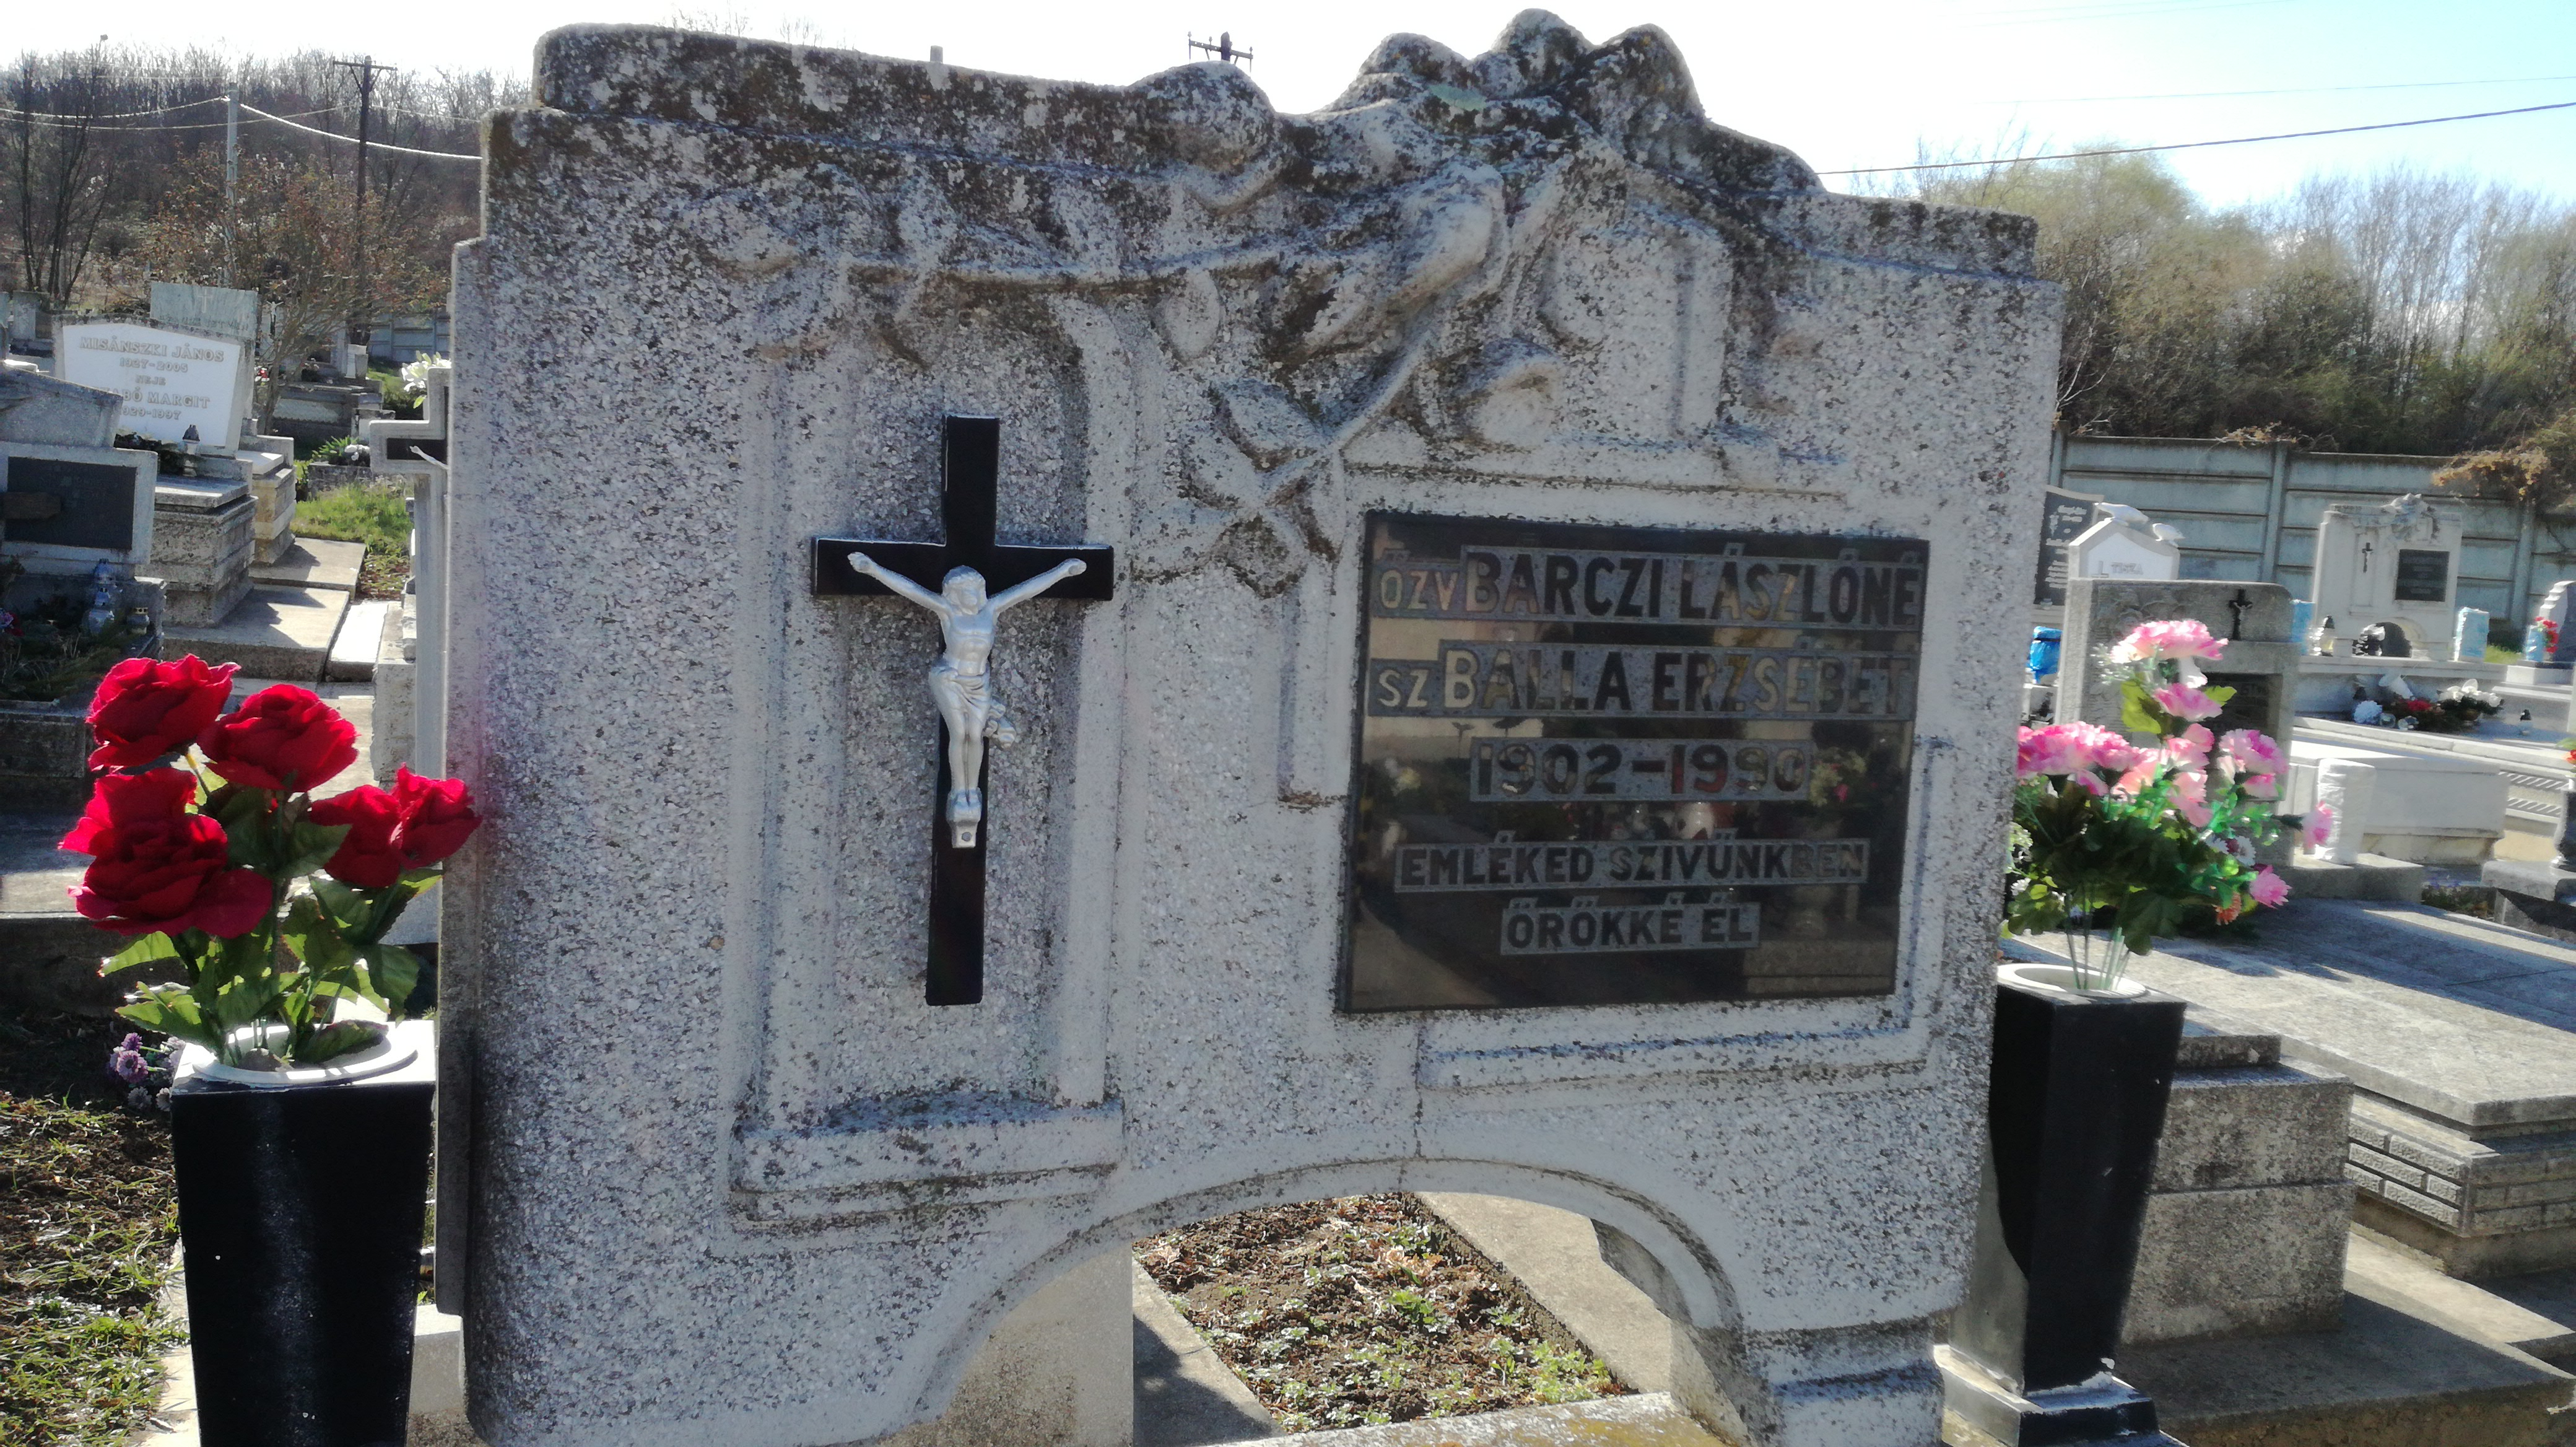upright: (453, 12, 2058, 1438)
